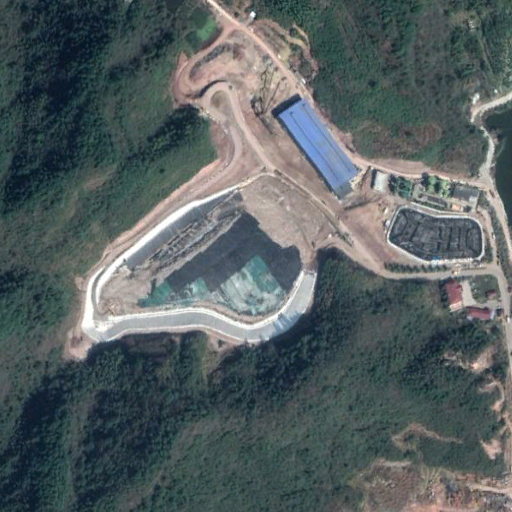lf: (79, 173, 316, 346)
